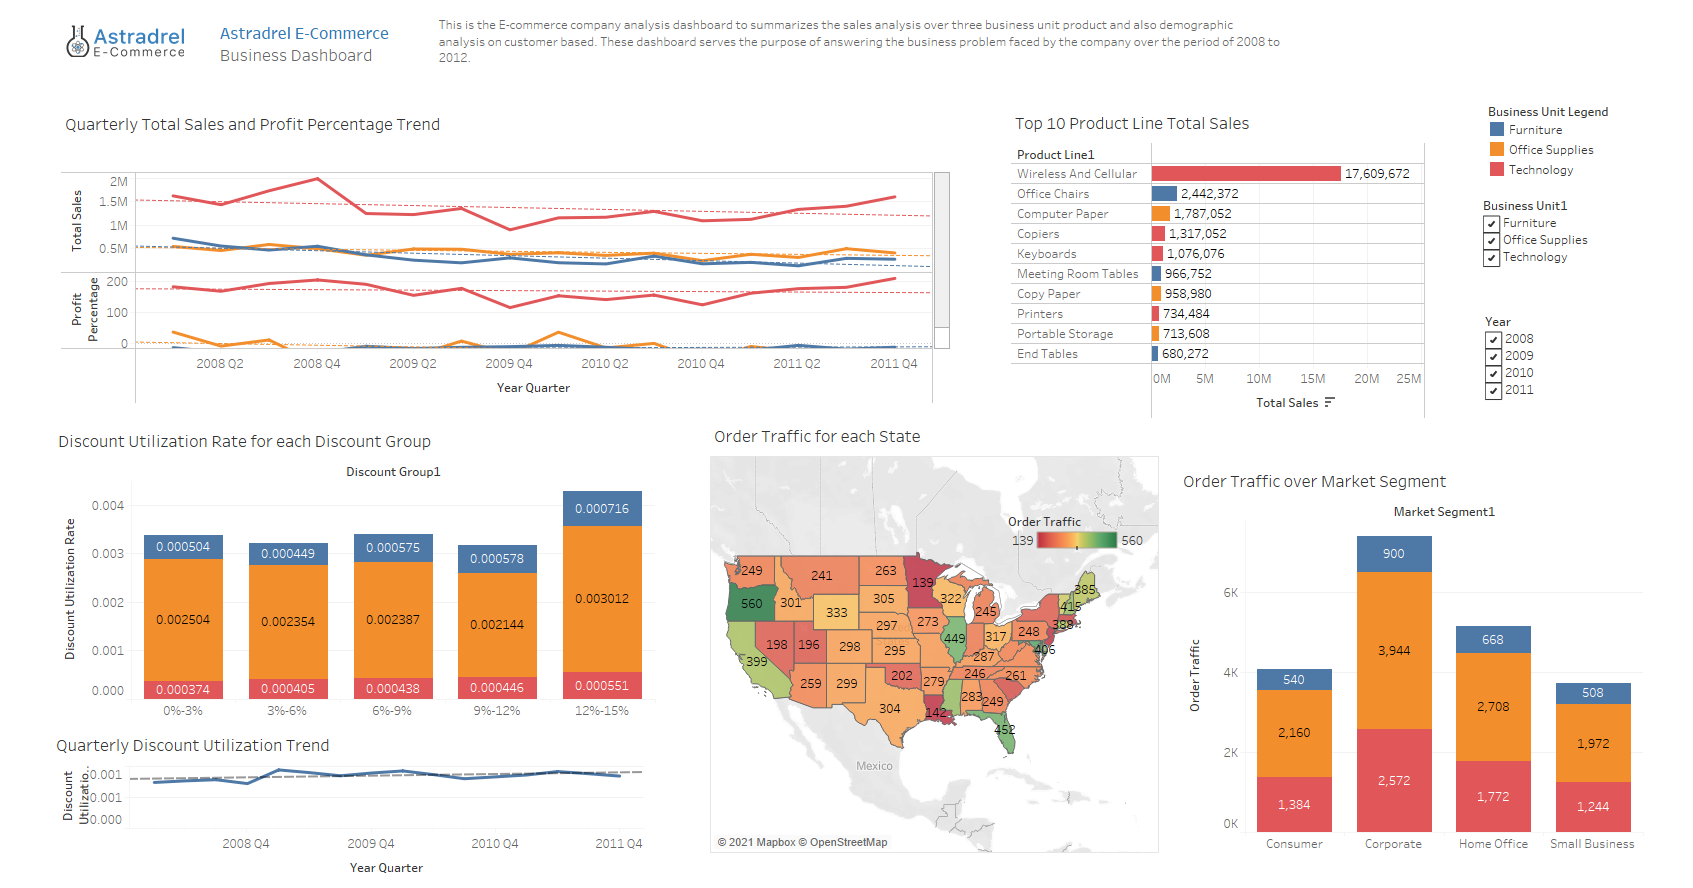

The dashboard page shown, as its layout file describes it:
{"tool":"tableau","page":{"name":"Astradrel E-Commerce Dashboard","canvas":[1000,1000],"units":"permille","ordinal":0},"visuals":[{"type":"text","box":[128.2,7.9,261.1,84.5]},{"type":"text","box":[257.5,15.8,500.3,61.9]},{"type":"image","param":"C:/Users/astra/Desktop/astradrel ecommerce.png","box":[39,28.2,69.7,60.8]},{"type":"legend","title":"Quarterly Total Sales and Profit Percentage Trend","param":"[federated.1ltjail1a83x3d13su7ne1fzj6pi].[none:Business Unit:nk]","box":[878.3,113.7,82.7,87.8]},{"type":"worksheet","title":"Top 10 Product Line Total Sales","mark":"Automatic","rows":["Product Line","Product Group","Business Unit"],"cols":["Sales Total"],"box":[597.2,118.2,244.5,379.5]},{"type":"worksheet","title":"Quarterly Total Sales and Profit Percentage Trend","mark":"Line","rows":["Sales Total","Profit Percentage"],"cols":["Order Date"],"box":[36,119.4,525.1,335.6]},{"type":"filter","title":"Top 10 Product Line Total Sales","param":"[federated.1ltjail1a83x3d13su7ne1fzj6pi].[none:Business Unit:nk]","box":[876,220.7,94.5,112.6]},{"type":"filter","title":"Top 10 Product Line Total Sales","param":"[federated.1ltjail1a83x3d13su7ne1fzj6pi].[yr:Order Date:ok]","box":[877.1,351.4,94.5,134]},{"type":"worksheet","title":"Order Traffic for each State","mark":"Multipolygon","box":[419.4,470.7,265.2,489.9]},{"type":"worksheet","title":"Discount Utilization Rate for each Discount Group","mark":"Automatic","rows":["Calculation_36873254941233153"],"cols":["Discount Group"],"box":[31.9,476.4,355,334.5]},{"type":"worksheet","title":"Order Traffic over Market Segment","mark":"Bar","rows":["Order Id (Sales_customer.csv)"],"cols":["Market Segment"],"box":[696.4,521.4,274.1,460.6]},{"type":"legend","title":"Order Traffic for each State","param":"[federated.1ltjail1a83x3d13su7ne1fzj6pi].[cnt:Name:qk]","box":[595.4,573.2,82.7,85.6]},{"type":"worksheet","title":"Quarterly Discount Utilization Trend","mark":"Automatic","rows":["Calculation_36873254941233153"],"cols":["Order Date"],"box":[30.7,818.7,349.7,175.7]}]}

Visuals, with their boxes on the dashboard's canvas, which has no fixed pixel size, in thousandths of its width and height (x1, y1, x2, y2). These are canvas units, not pixel positions in the 1693x888 screenshot, which may show the page scaled, cropped or inside an application window:
text: [x1=128, y1=8, x2=389, y2=92]
text: [x1=258, y1=16, x2=758, y2=78]
image: [x1=39, y1=28, x2=109, y2=89]
"Quarterly Total Sales and Profit Percentage Trend" legend: [x1=878, y1=114, x2=961, y2=202]
"Top 10 Product Line Total Sales" worksheet: [x1=597, y1=118, x2=842, y2=498]
"Quarterly Total Sales and Profit Percentage Trend" worksheet (Line marks): [x1=36, y1=119, x2=561, y2=455]
"Top 10 Product Line Total Sales" filter: [x1=876, y1=221, x2=970, y2=333]
"Top 10 Product Line Total Sales" filter: [x1=877, y1=351, x2=972, y2=485]
"Order Traffic for each State" worksheet (Multipolygon marks): [x1=419, y1=471, x2=685, y2=961]
"Discount Utilization Rate for each Discount Group" worksheet: [x1=32, y1=476, x2=387, y2=811]
"Order Traffic over Market Segment" worksheet (Bar marks): [x1=696, y1=521, x2=970, y2=982]
"Order Traffic for each State" legend: [x1=595, y1=573, x2=678, y2=659]
"Quarterly Discount Utilization Trend" worksheet: [x1=31, y1=819, x2=380, y2=994]
